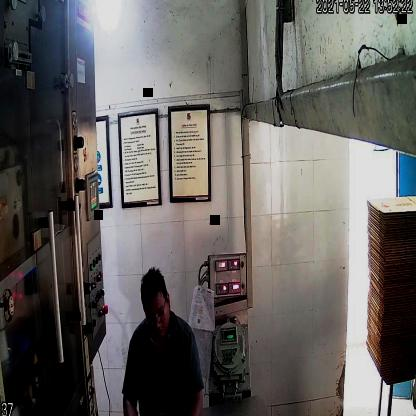goggles: (144, 296, 170, 331)
